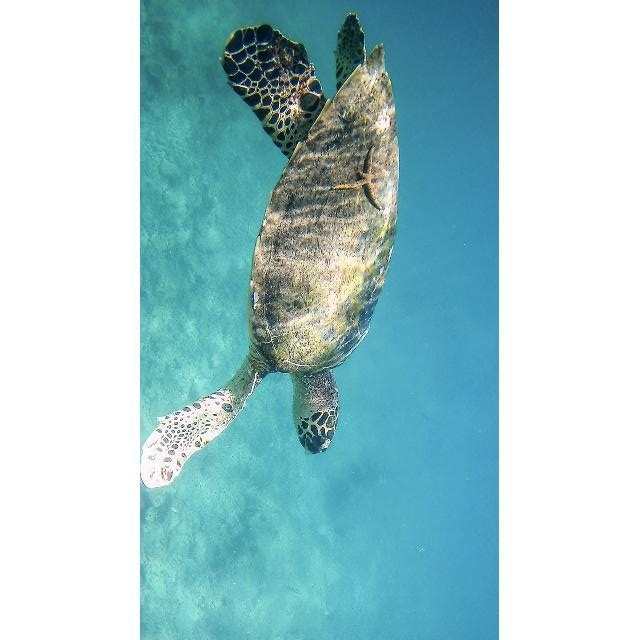turtle: (140, 13, 400, 491)
